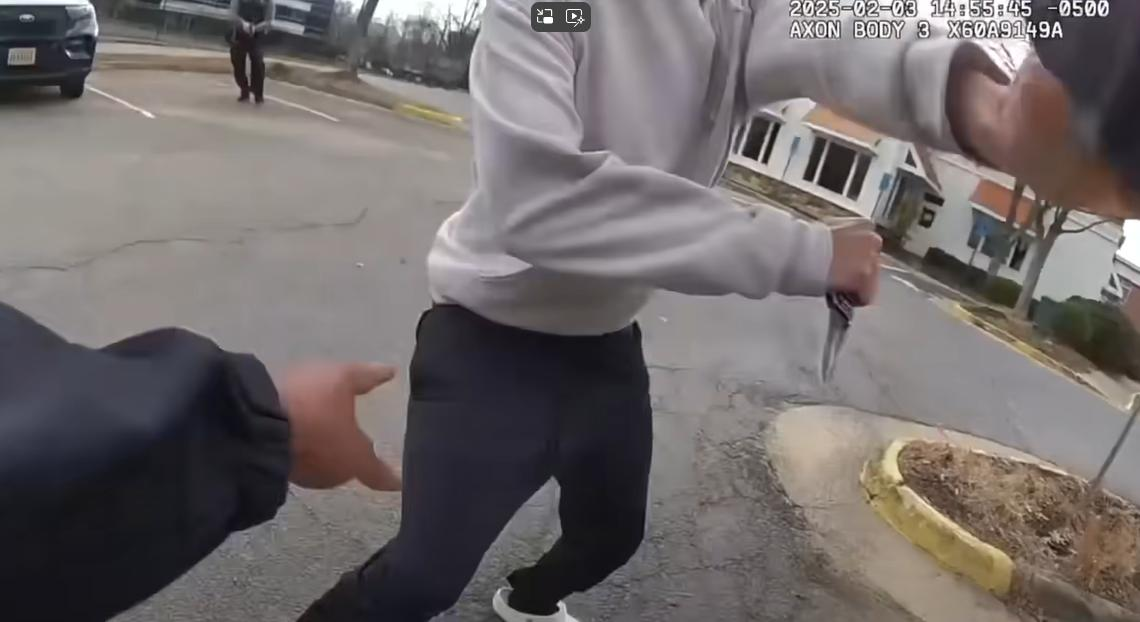Knife: (292, 0, 1140, 622), (0, 308, 402, 622), (213, 0, 277, 109), (827, 220, 883, 305), (819, 284, 863, 386)
